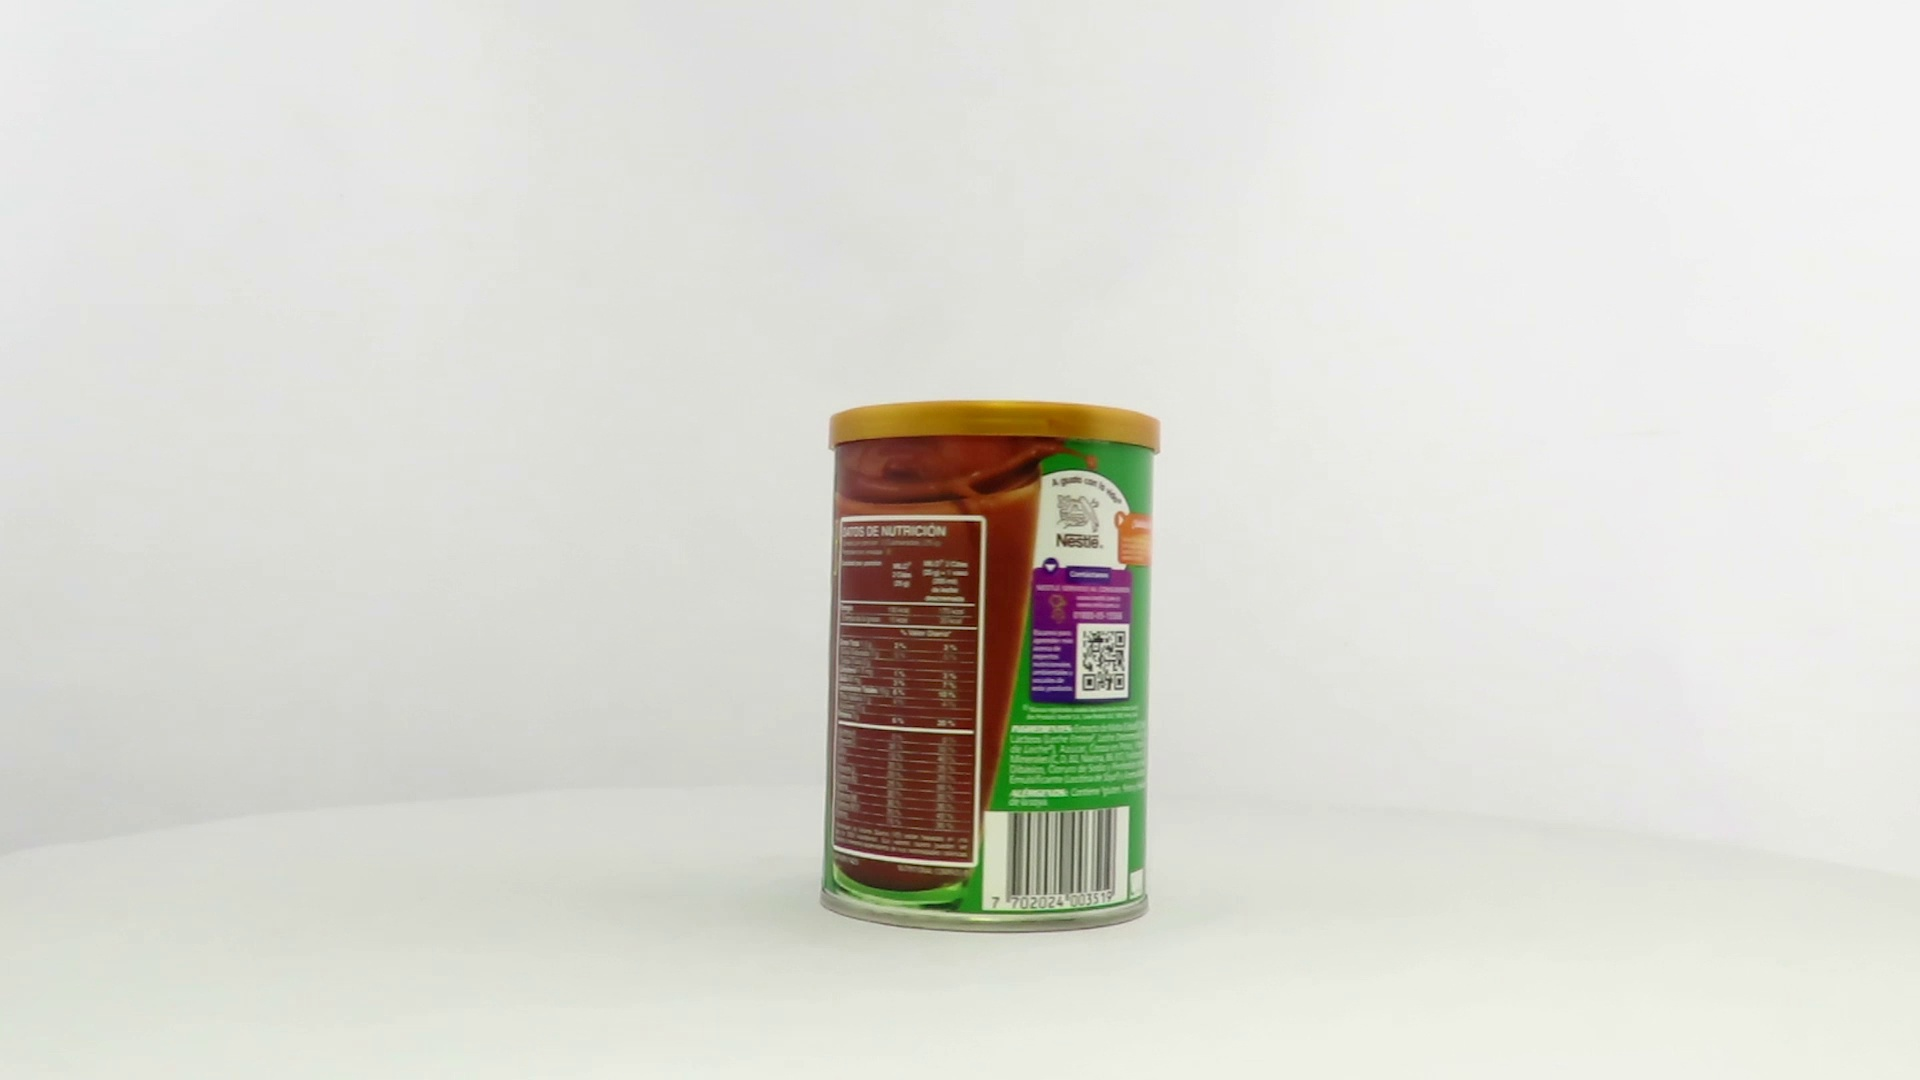COL0170203LAT20000: (814, 396, 1168, 940)
